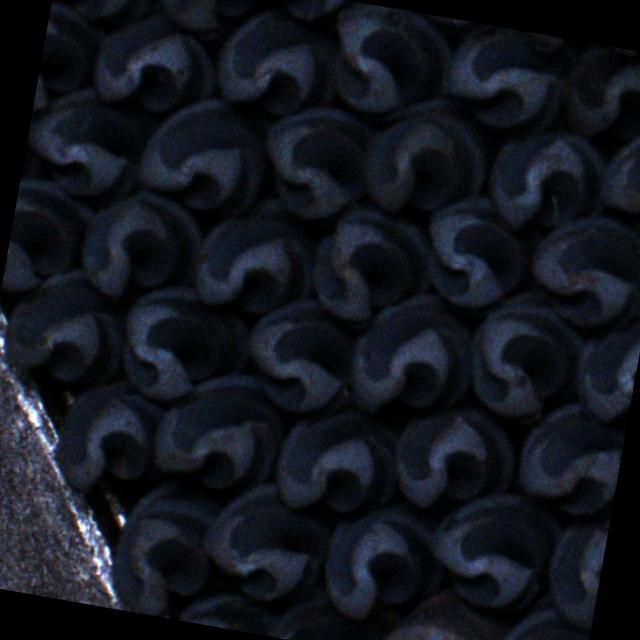tool: (374, 605, 494, 640)
tool_b: (422, 481, 571, 618), (458, 278, 594, 428), (341, 285, 482, 429), (146, 359, 292, 497), (354, 90, 498, 226), (192, 476, 335, 612), (314, 497, 454, 635), (114, 280, 260, 412), (186, 184, 324, 320), (136, 92, 278, 223), (107, 472, 228, 624), (304, 197, 441, 330), (21, 76, 158, 205), (75, 182, 210, 312), (0, 259, 133, 390), (268, 396, 404, 522), (384, 396, 521, 520), (238, 290, 366, 422), (438, 20, 578, 140), (250, 97, 378, 226), (48, 370, 175, 500), (322, 0, 458, 121), (206, 2, 344, 120), (88, 5, 225, 122), (519, 206, 640, 338), (484, 120, 616, 239), (416, 186, 538, 312), (512, 396, 628, 522), (0, 178, 96, 304), (553, 42, 640, 151), (541, 500, 612, 630), (32, 0, 108, 119), (567, 306, 640, 429), (259, 584, 383, 640), (484, 582, 594, 640), (592, 119, 640, 243), (170, 584, 277, 636), (236, 0, 391, 35), (152, 0, 267, 41), (49, 0, 163, 28)
